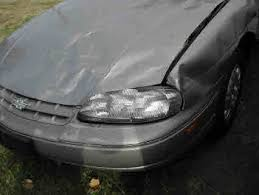Broken-glass: (79, 86, 181, 121), (178, 63, 213, 106)
Smashed: (2, 1, 206, 96)
